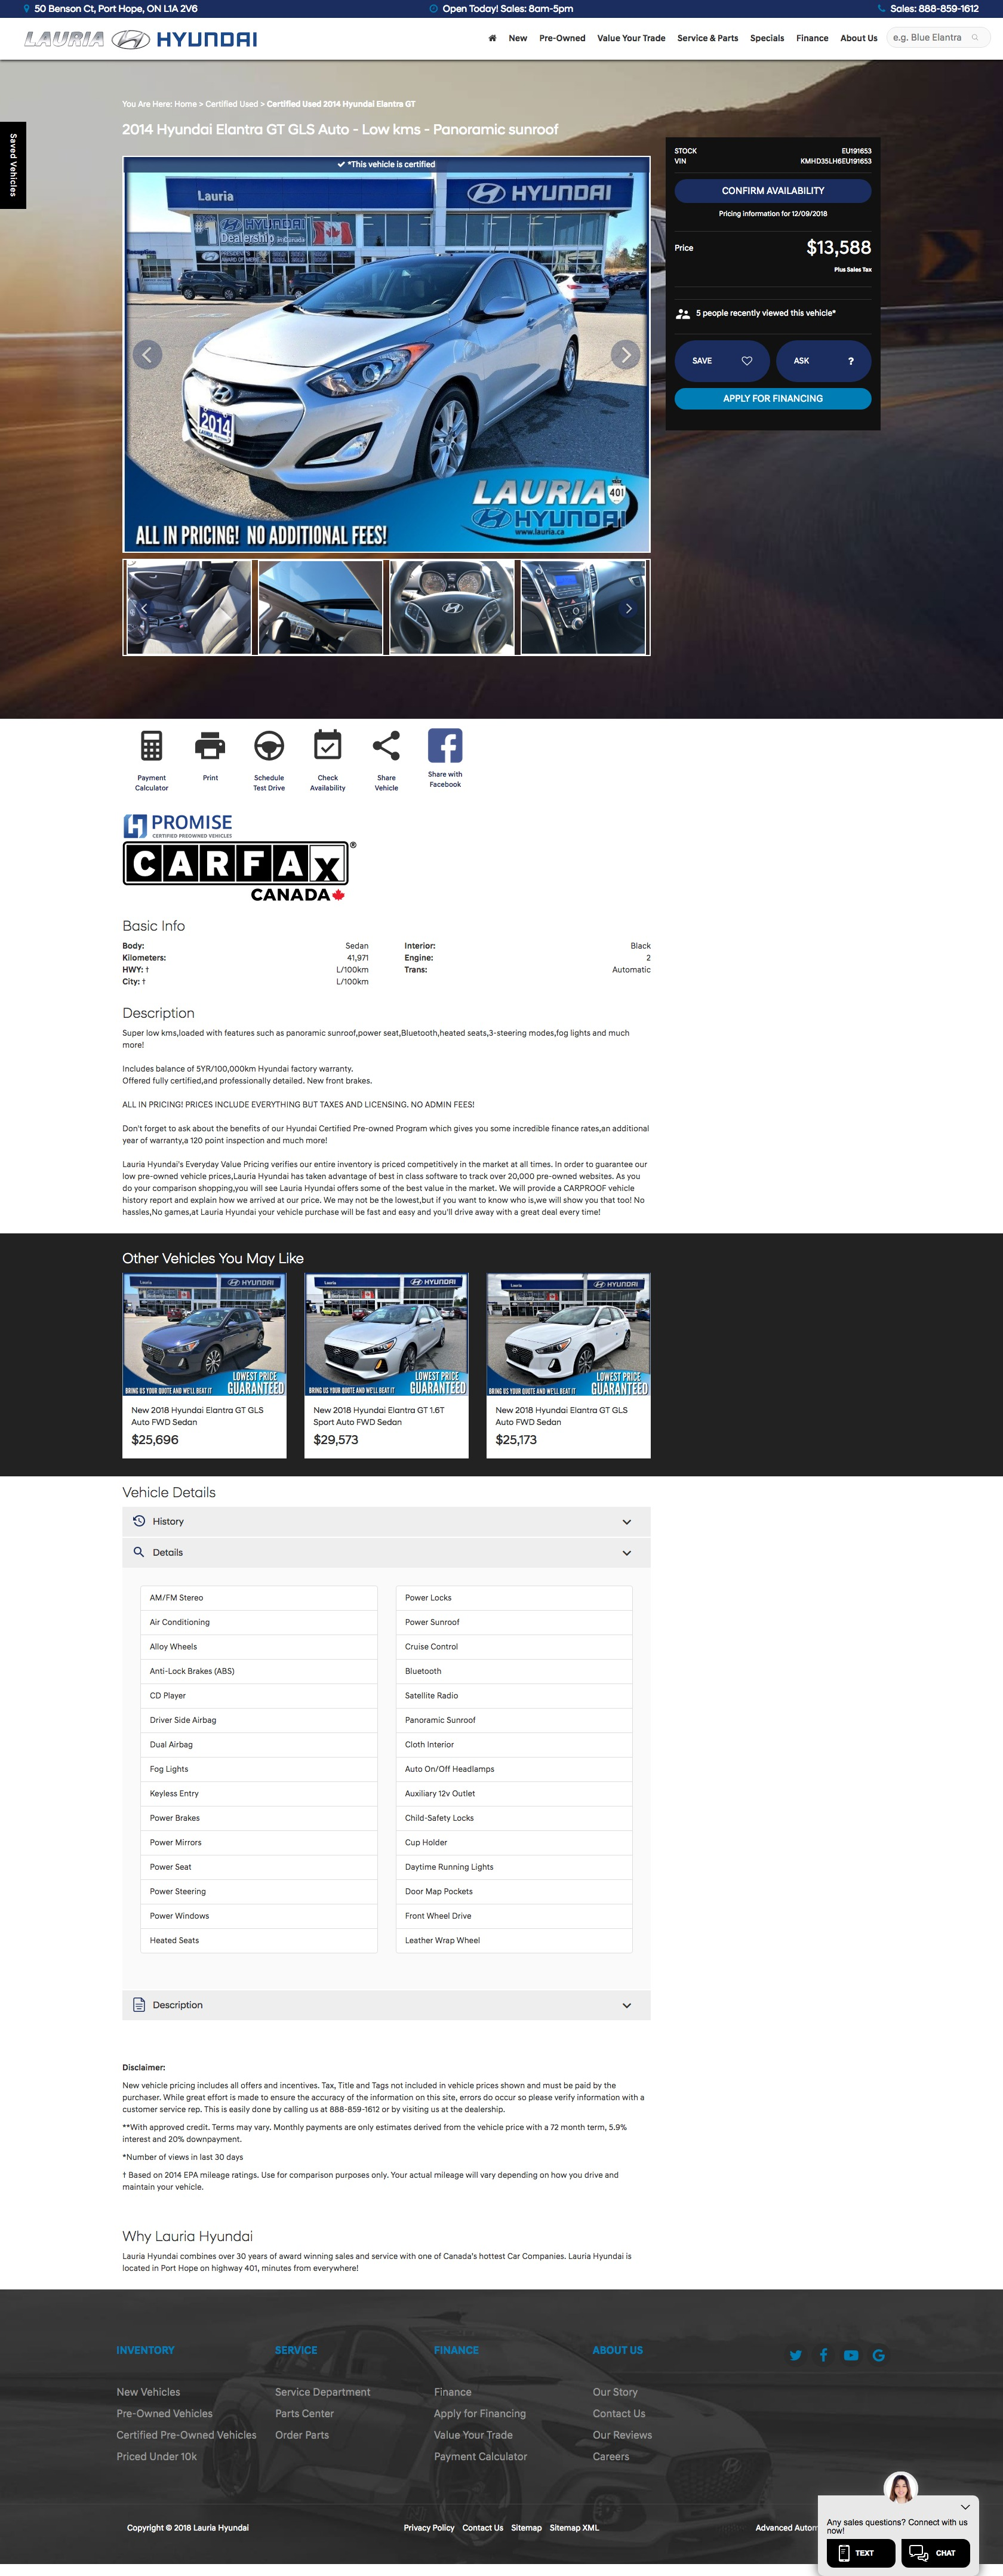car: (618, 598, 640, 619)
